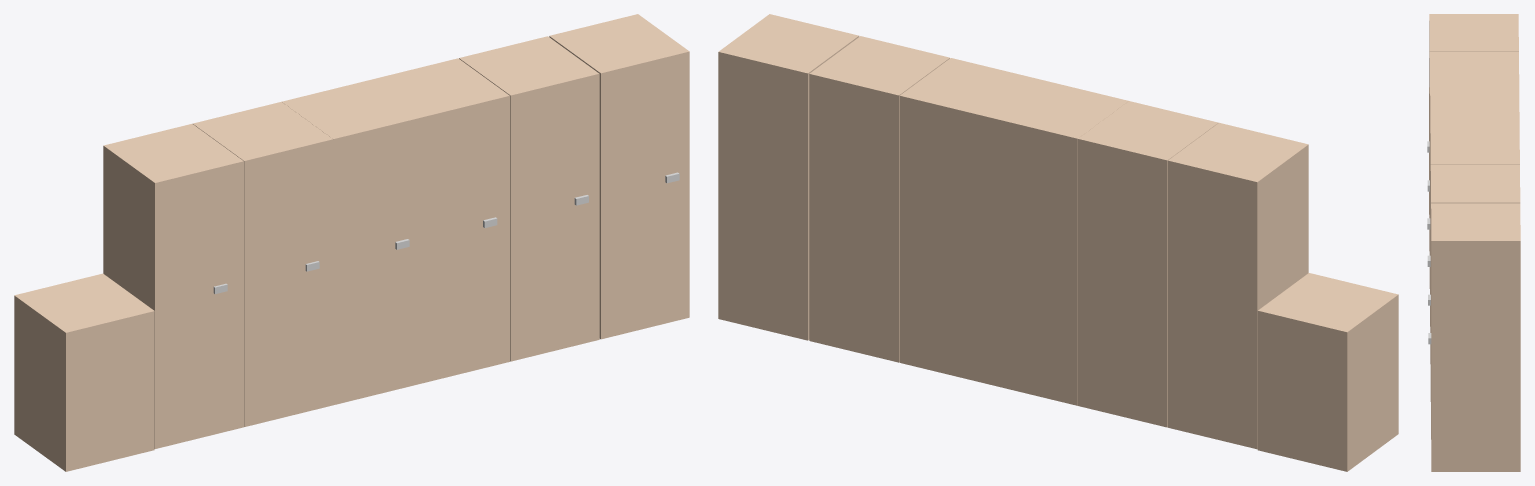
File: shkaf1.fbx
The picture shows the model from 3 angles, left to right: view 1: azimuth 30°, elevation 25°; view 2: azimuth 150°, elevation 25°; view 3: azimuth 270°, elevation 25°; orthographic projection. The views are drawn at different scales.
Visible parts, largest first — view 1: Куб.002, Куб.007, Куб.006, Куб.003, Куб.005, Куб.004, Куб.001; view 2: Куб.002, Куб.007, Куб.006, Куб.005, Куб.003, Куб.004, Куб.001; view 3: Куб.007, Куб.006, Куб.004, Куб.003, Куб.005, Куб.002.
Boxes of the visible parts, x1,y1,x2,y2 form: Куб.002: [103, 124, 243, 448]; Куб.007: [549, 14, 689, 339]; Куб.006: [459, 36, 599, 361]; Куб.003: [193, 101, 333, 426]; Куб.005: [371, 58, 509, 383]; Куб.004: [282, 80, 421, 405]; Куб.001: [14, 273, 154, 471]; Куб.002: [1168, 122, 1308, 449]; Куб.007: [718, 14, 859, 340]; Куб.006: [809, 36, 949, 362]; Куб.005: [899, 58, 1038, 384]; Куб.003: [1078, 101, 1218, 427]; Куб.004: [988, 79, 1128, 405]; Куб.001: [1257, 273, 1398, 471]; Куб.007: [1431, 203, 1520, 471]; Куб.006: [1430, 165, 1520, 401]; Куб.004: [1430, 89, 1519, 326]; Куб.003: [1429, 52, 1519, 288]; Куб.005: [1430, 127, 1519, 363]; Куб.002: [1429, 14, 1518, 250].
Bounding box in the file's own units: 492 × 201 × 73.21.
